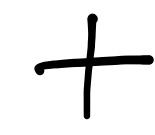plus: (35, 12, 154, 119)
